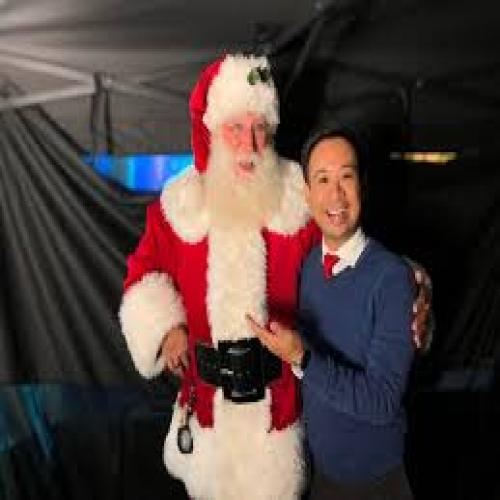Santa: (120, 53, 320, 500)
